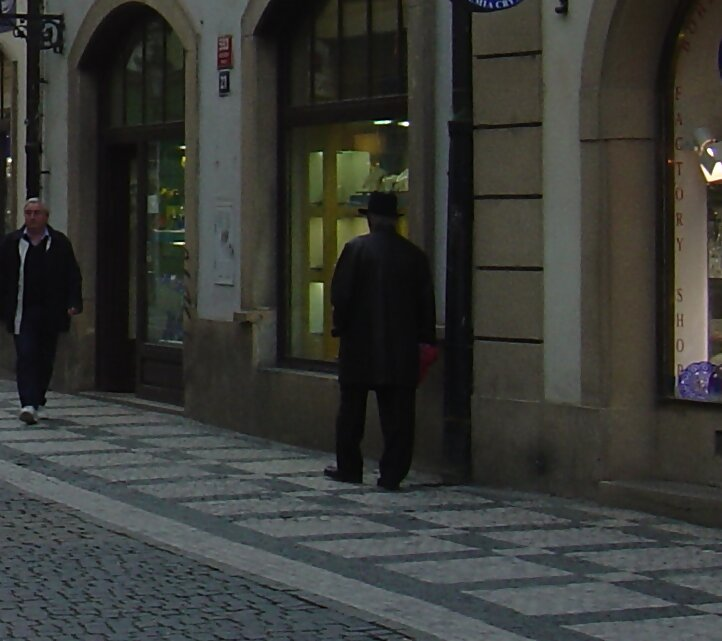person: (318, 188, 429, 495), (1, 195, 86, 428)
